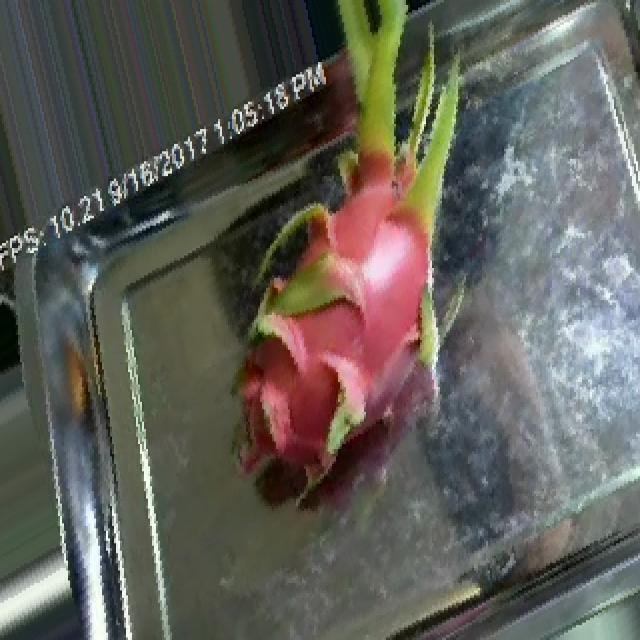fruit: (140, 32, 544, 511)
